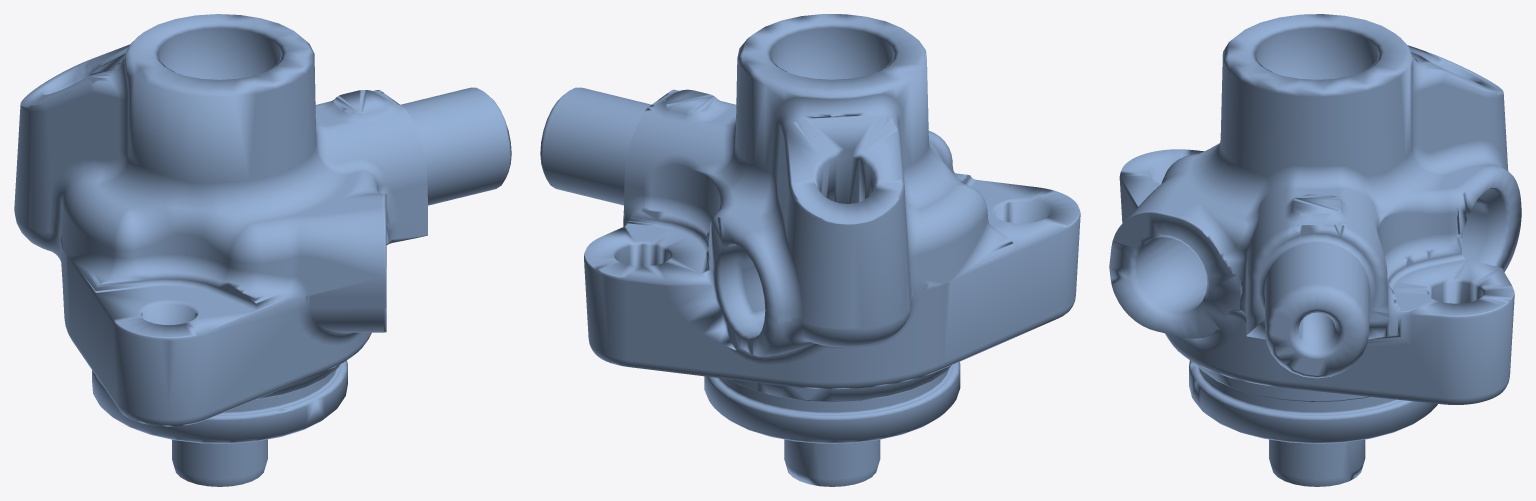
3 renders of one model, left to right at view 1: azimuth 30°, elevation 25°; view 2: azimuth 150°, elevation 25°; view 3: azimuth 270°, elevation 25°, orthographic.
Visible parts, largest first — view 1: 2991572010-11-c_4941; view 2: 2991572010-11-c_4941; view 3: 2991572010-11-c_4941.
Boxes of the visible parts, x1,y1,x2,y2 form: 2991572010-11-c_4941: (14, 14, 511, 486); 2991572010-11-c_4941: (540, 14, 1080, 486); 2991572010-11-c_4941: (1109, 14, 1521, 486).
Bounding box in the file's own units: 77.71 × 70.25 × 63.08.
